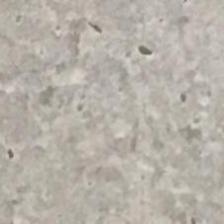Non_Crack: (15, 73, 224, 224)
